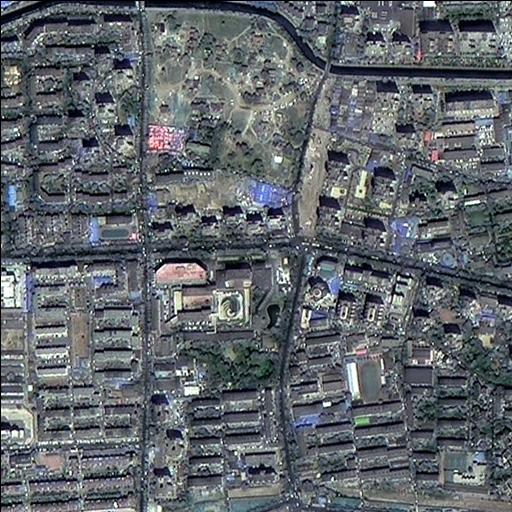school: (438, 449, 492, 494), (89, 211, 139, 248)
